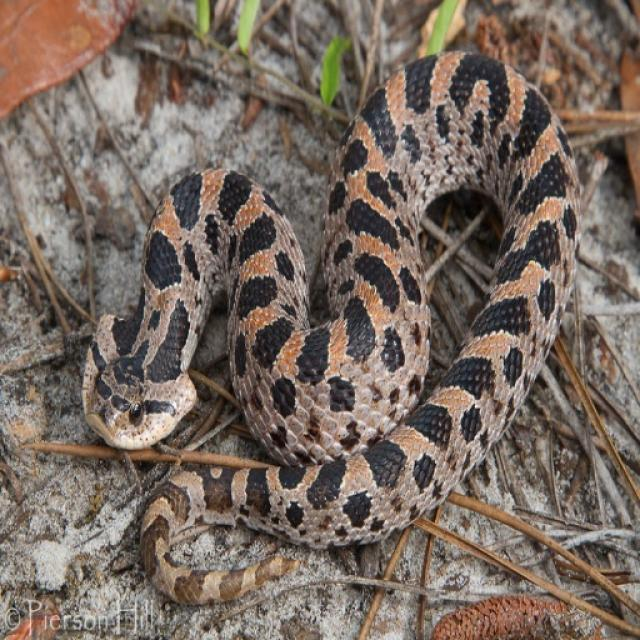snake: (43, 41, 594, 626)
